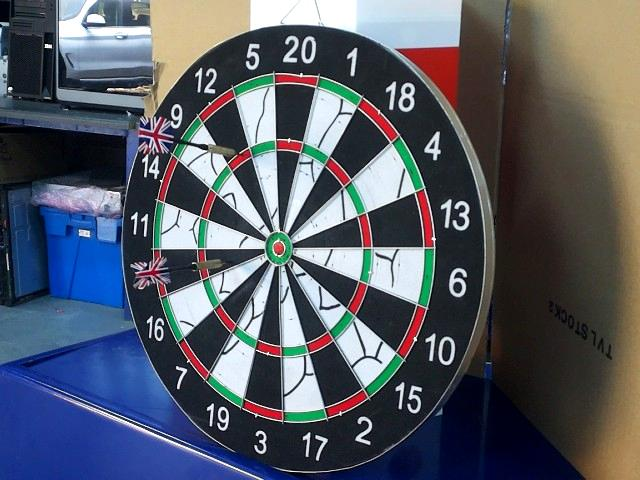single_8: (207, 249, 264, 272)
triple_12: (228, 151, 250, 168)
